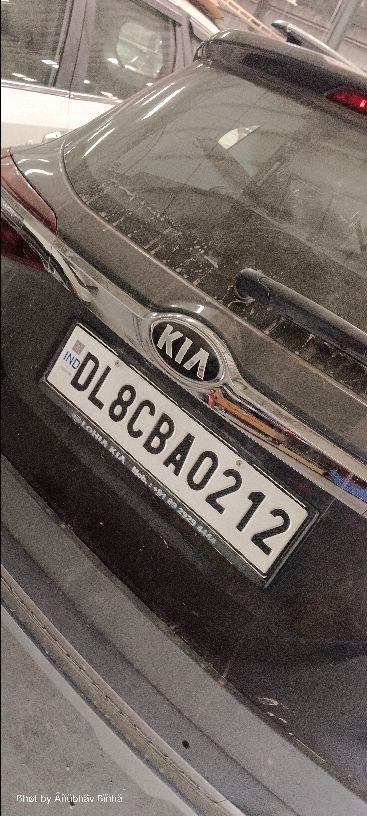license_plate: (38, 317, 319, 590)
